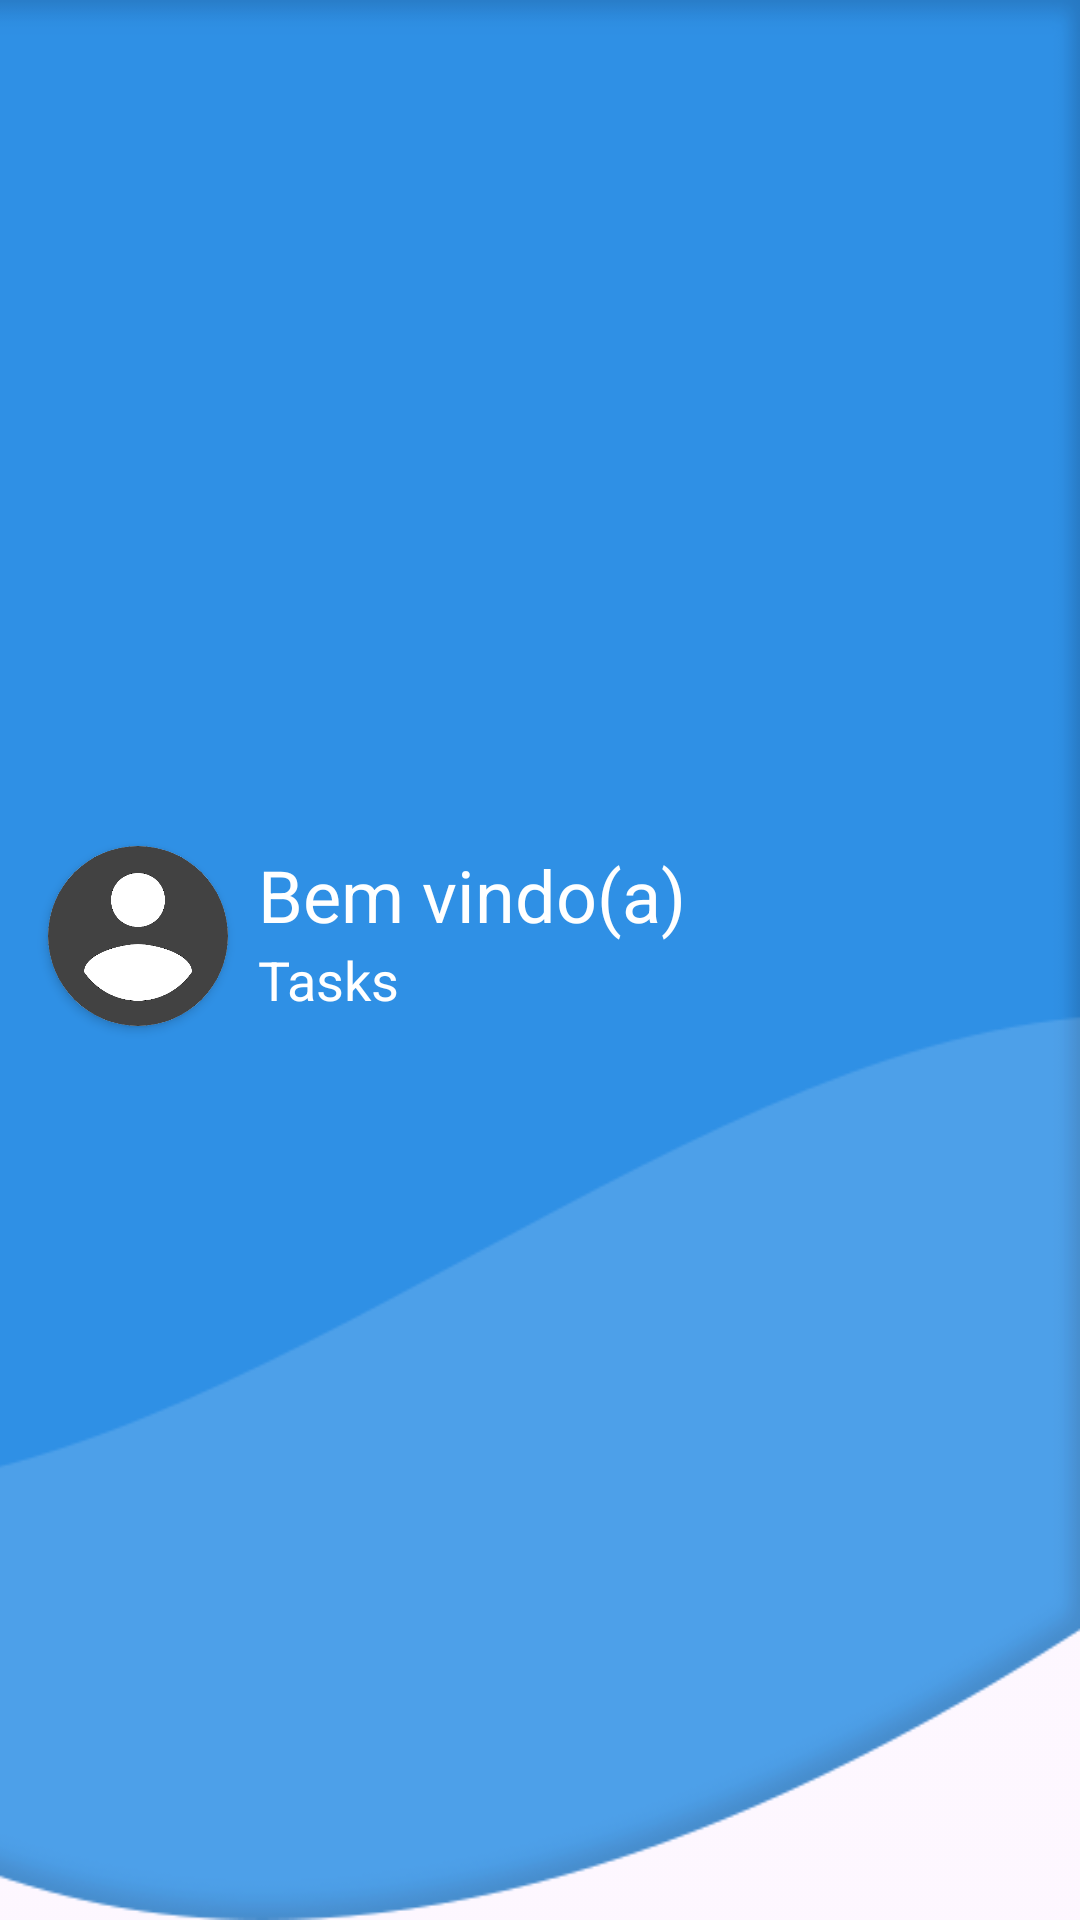

Screen size 1080 × 1920. Icon name, then its box in pixels as (x1, y1, x2, y2):
profile: (48, 846, 228, 1026)
